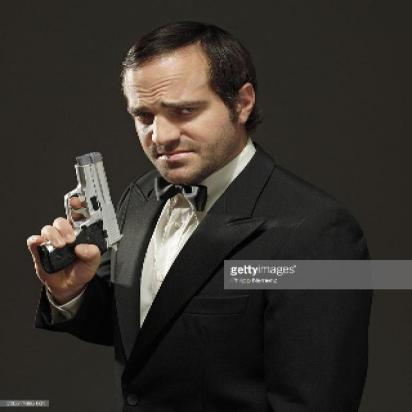Gun: (36, 149, 124, 271)
